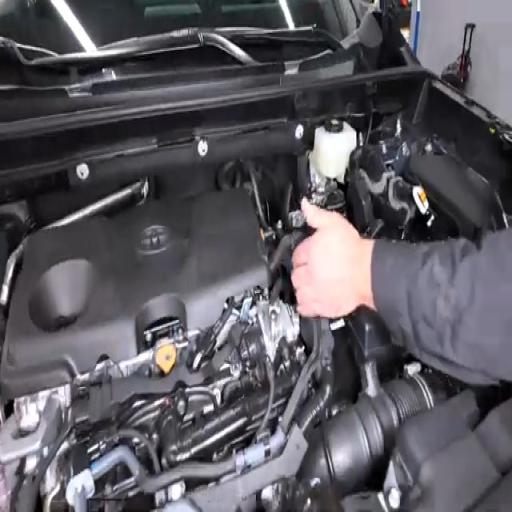emblem: (140, 225, 169, 254)
windshield: (0, 0, 347, 54)
